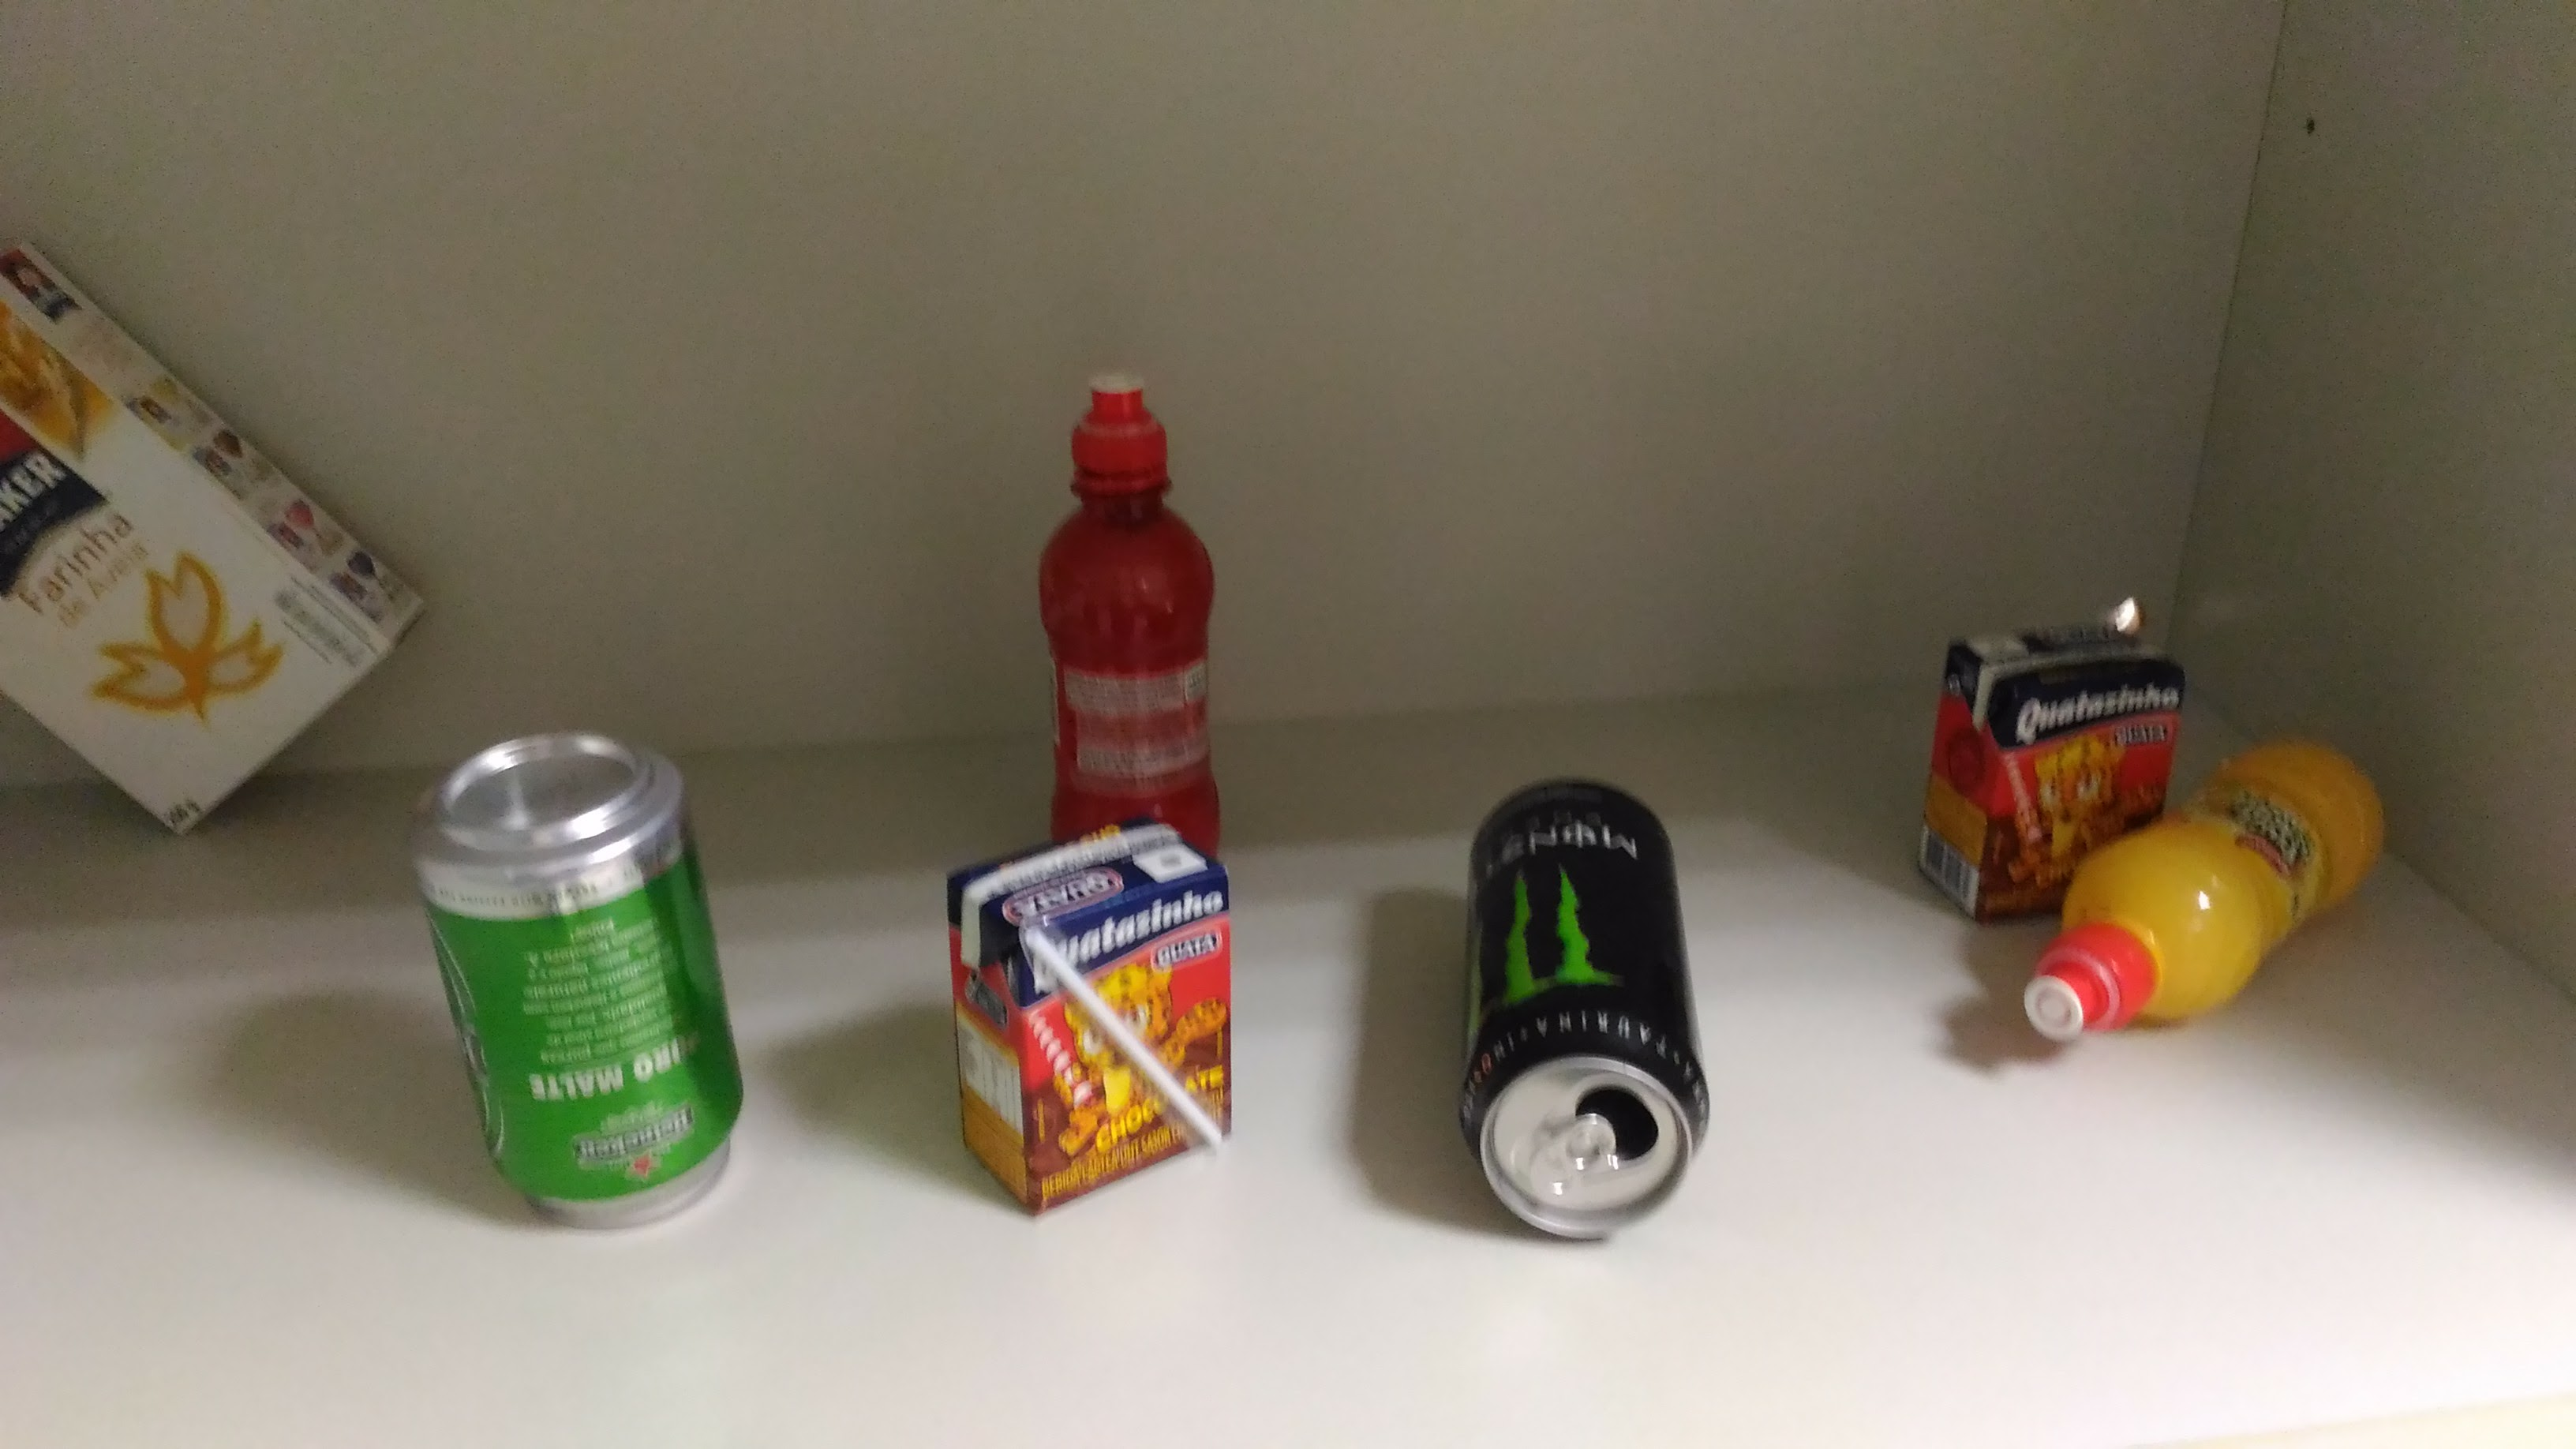chocolate_milk: (934, 819, 1235, 1226)
heineken: (410, 717, 764, 1253)
monster: (1444, 761, 1727, 1274)
red_juice: (1014, 361, 1267, 858)
